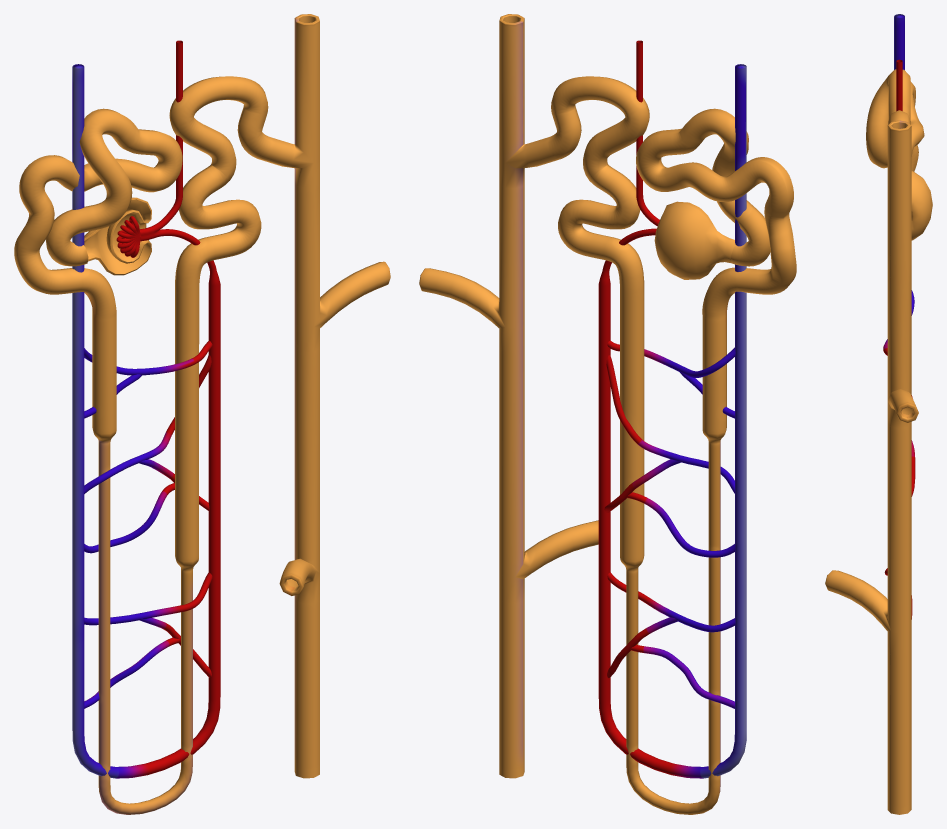
File: nephron.glb
3 renders of one model, left to right at view 1: azimuth 30°, elevation 25°; view 2: azimuth 150°, elevation 25°; view 3: azimuth 270°, elevation 25°, orthographic. The views are drawn at different scales.
Visible parts, largest first — view 1: sweep5; view 2: sweep5; view 3: sweep5.
Part boxes in pixels (x1,y1,x2,y2): sweep5: (14,14,390,814); sweep5: (419,14,796,814); sweep5: (825,14,932,814).
Size of the model in its own units: 0.1036 by 0.2041 by 0.0288.
1 material, 1 textured.
